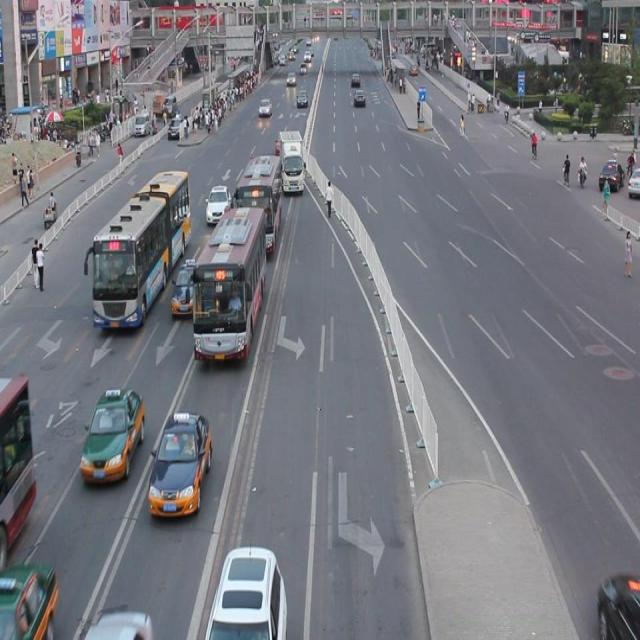bus: (278, 129, 305, 192)
car: (205, 547, 285, 640), (147, 411, 212, 516), (78, 386, 144, 479), (1, 564, 57, 640), (170, 258, 200, 314), (204, 186, 230, 222), (275, 134, 292, 160)
van: (83, 169, 190, 330), (192, 206, 266, 354), (1, 375, 36, 558), (232, 156, 280, 254)
